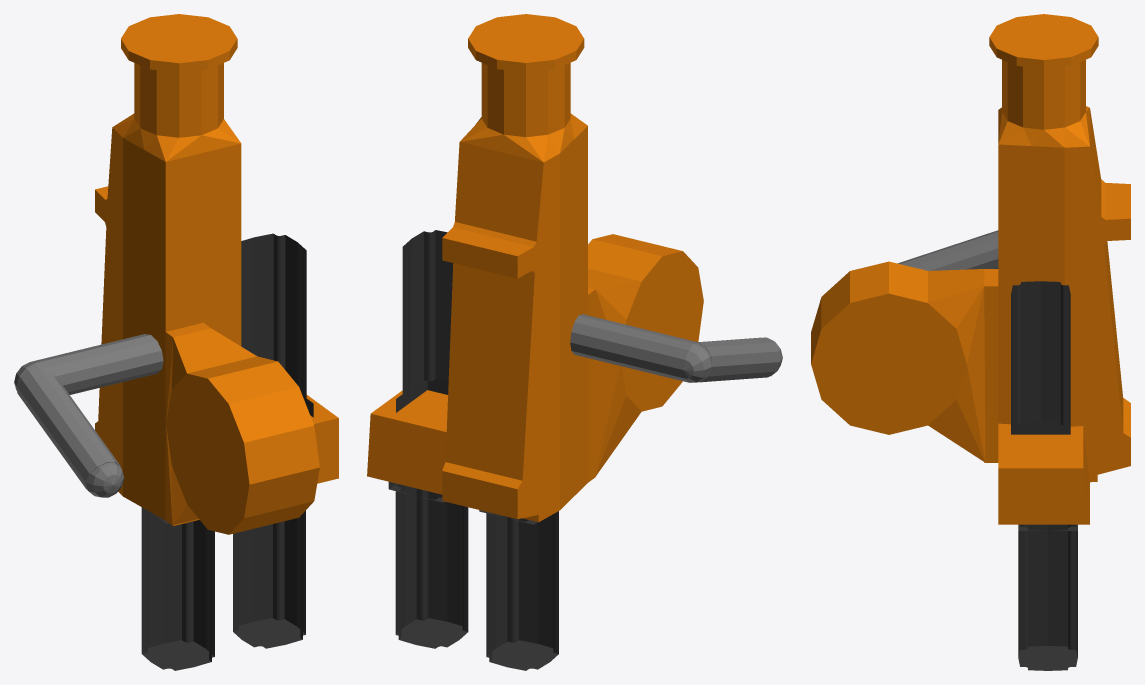
3 views of the same model, side by side, from view 1: azimuth 30°, elevation 25°; view 2: azimuth 150°, elevation 25°; view 3: azimuth 270°, elevation 25° (orthographic). The views are drawn at different scales.
Parts seen in each view (by area): view 1: default_mesh_, motor_mesh_.001, rod_mesh_.001; view 2: default_mesh_, motor_mesh_.001, rod_mesh_.001; view 3: default_mesh_, motor_mesh_.001, rod_mesh_.001.
Boxes of the visible parts, bbox=[...] form: default_mesh_: bbox=[95, 14, 338, 534]; motor_mesh_.001: bbox=[141, 233, 313, 670]; rod_mesh_.001: bbox=[14, 334, 163, 497]; default_mesh_: bbox=[367, 14, 703, 522]; motor_mesh_.001: bbox=[388, 230, 558, 670]; rod_mesh_.001: bbox=[570, 314, 782, 382]; default_mesh_: bbox=[811, 14, 1130, 524]; motor_mesh_.001: bbox=[1011, 281, 1077, 670]; rod_mesh_.001: bbox=[897, 230, 998, 270].
Bounding box in the file's own units: 0.3435 × 0.6555 × 0.3282.
